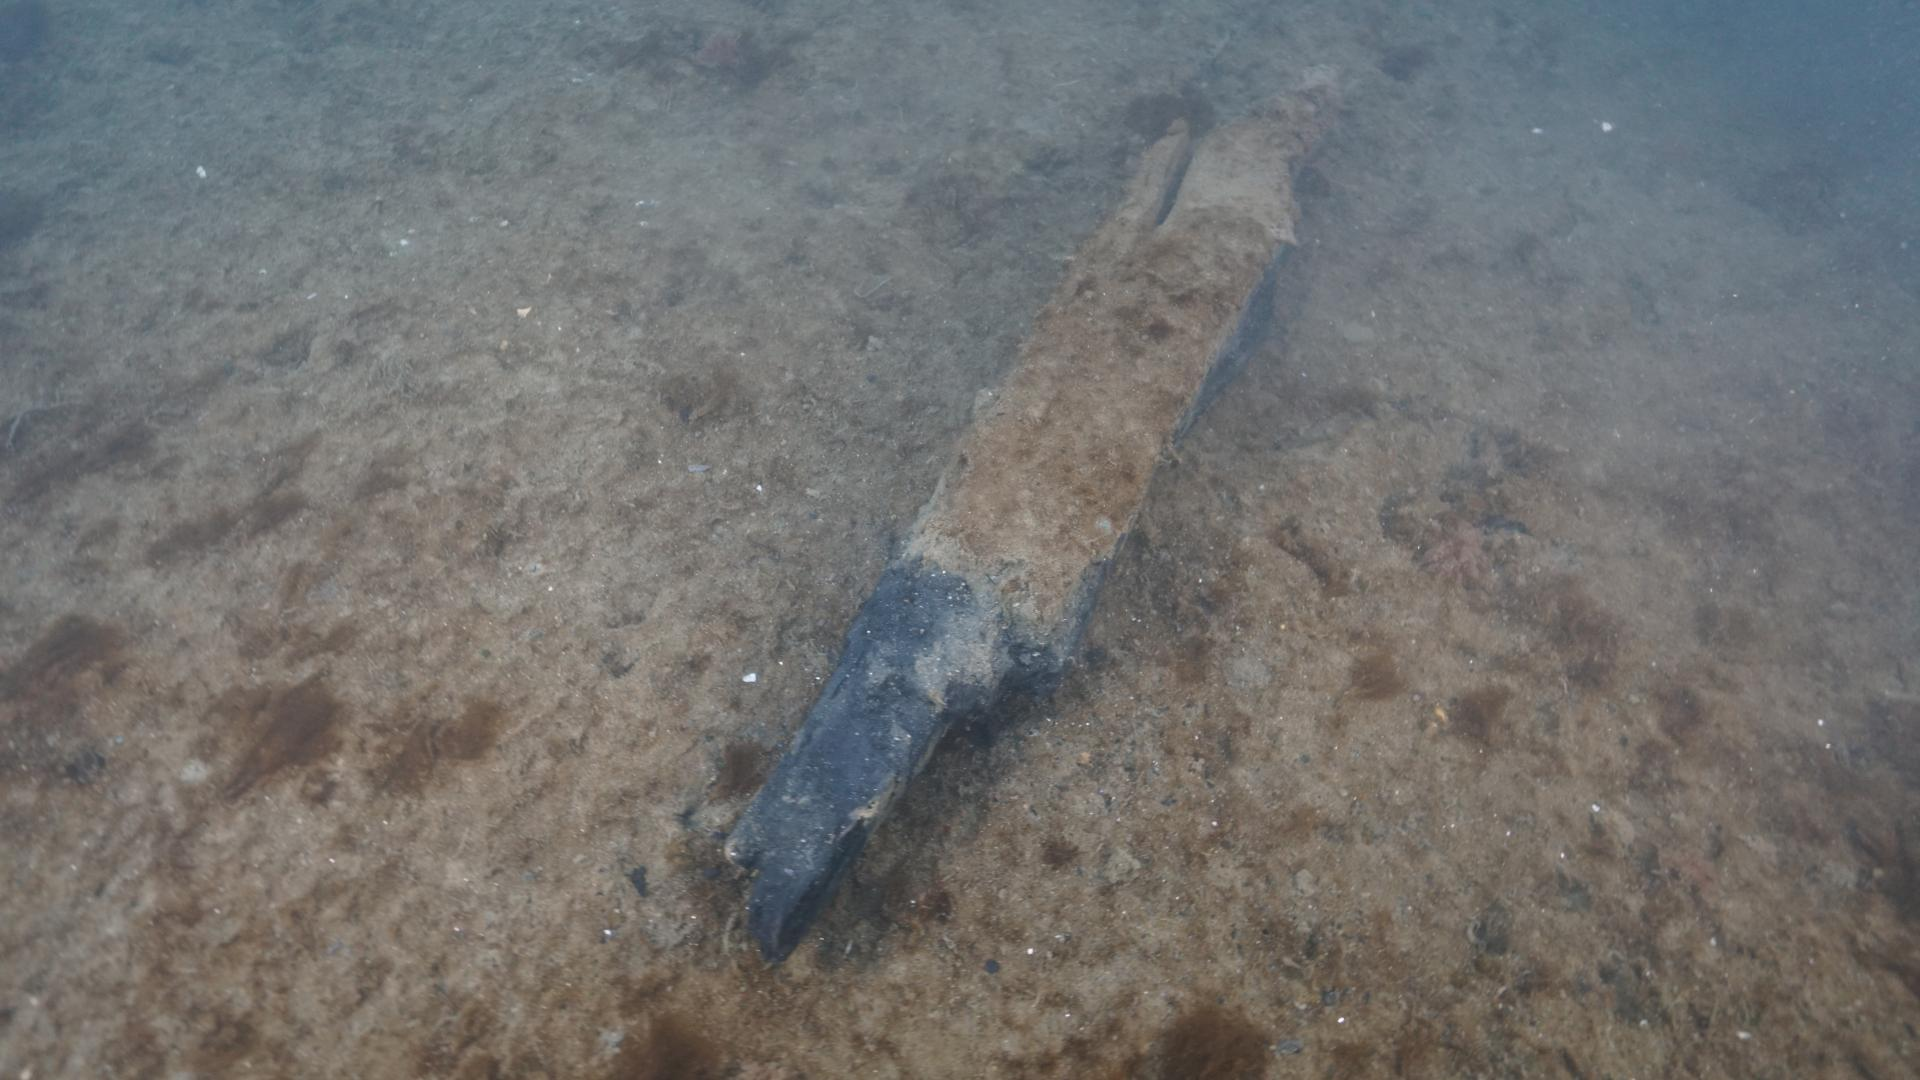wood: (721, 70, 1342, 968)
